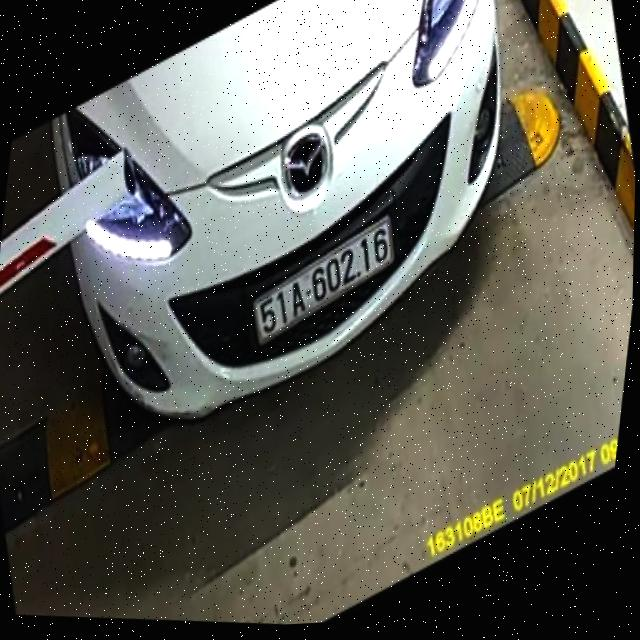car: (15, 0, 523, 462)
plate: (248, 205, 401, 360)
